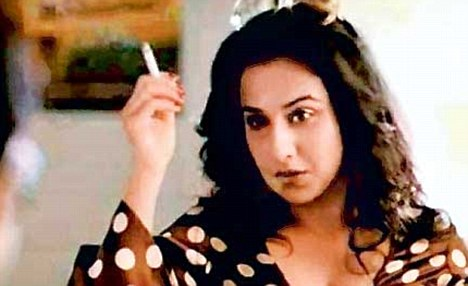cigarette: (119, 28, 181, 86)
